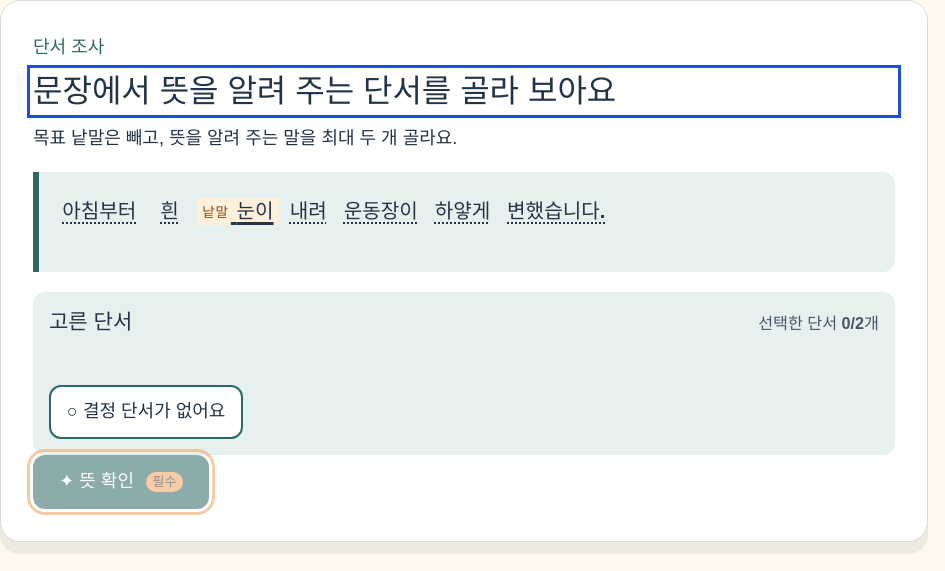
ClueInvestigationScreen › shows the selected clue count and describes the sentence with it
Expected: the text "목표 낱말은 빼고, 뜻을 알려 주는 말을 최대 두 개 골라요." is shown, [33,128,457,148]
Expected: the text "선택한 단서 0/2개" is shown, [758,310,879,337]
Click the button with aria-label "선택 안 됨" at coordinates (99, 212), box [57,188,142,236]
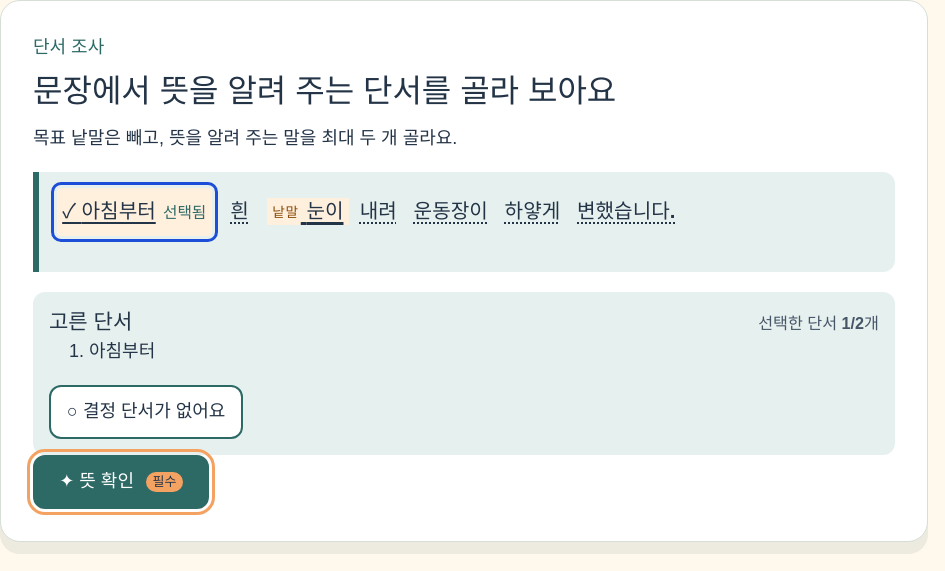
Result: the text "선택한 단서 1/2개" is shown at [758,310,879,337]
